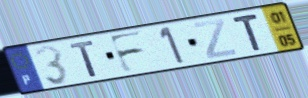1: (158, 24, 189, 65)
3: (34, 43, 72, 87)
F: (106, 29, 148, 75)
T: (230, 12, 265, 53), (67, 38, 100, 78)
Z: (191, 17, 239, 60)
